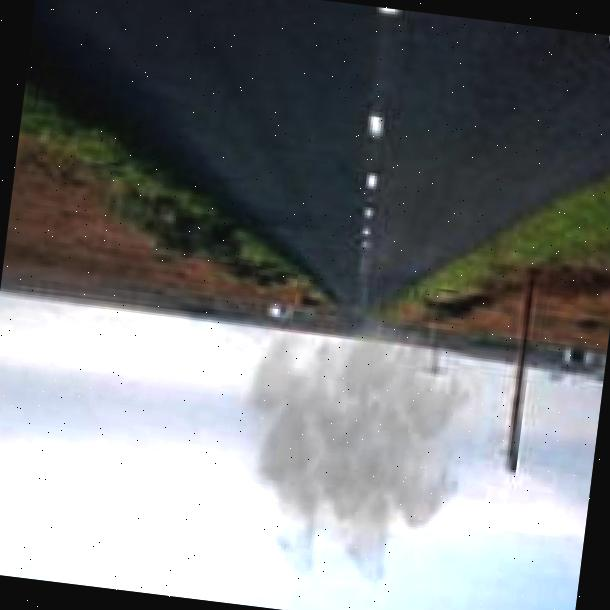smoke: (206, 289, 493, 601)
